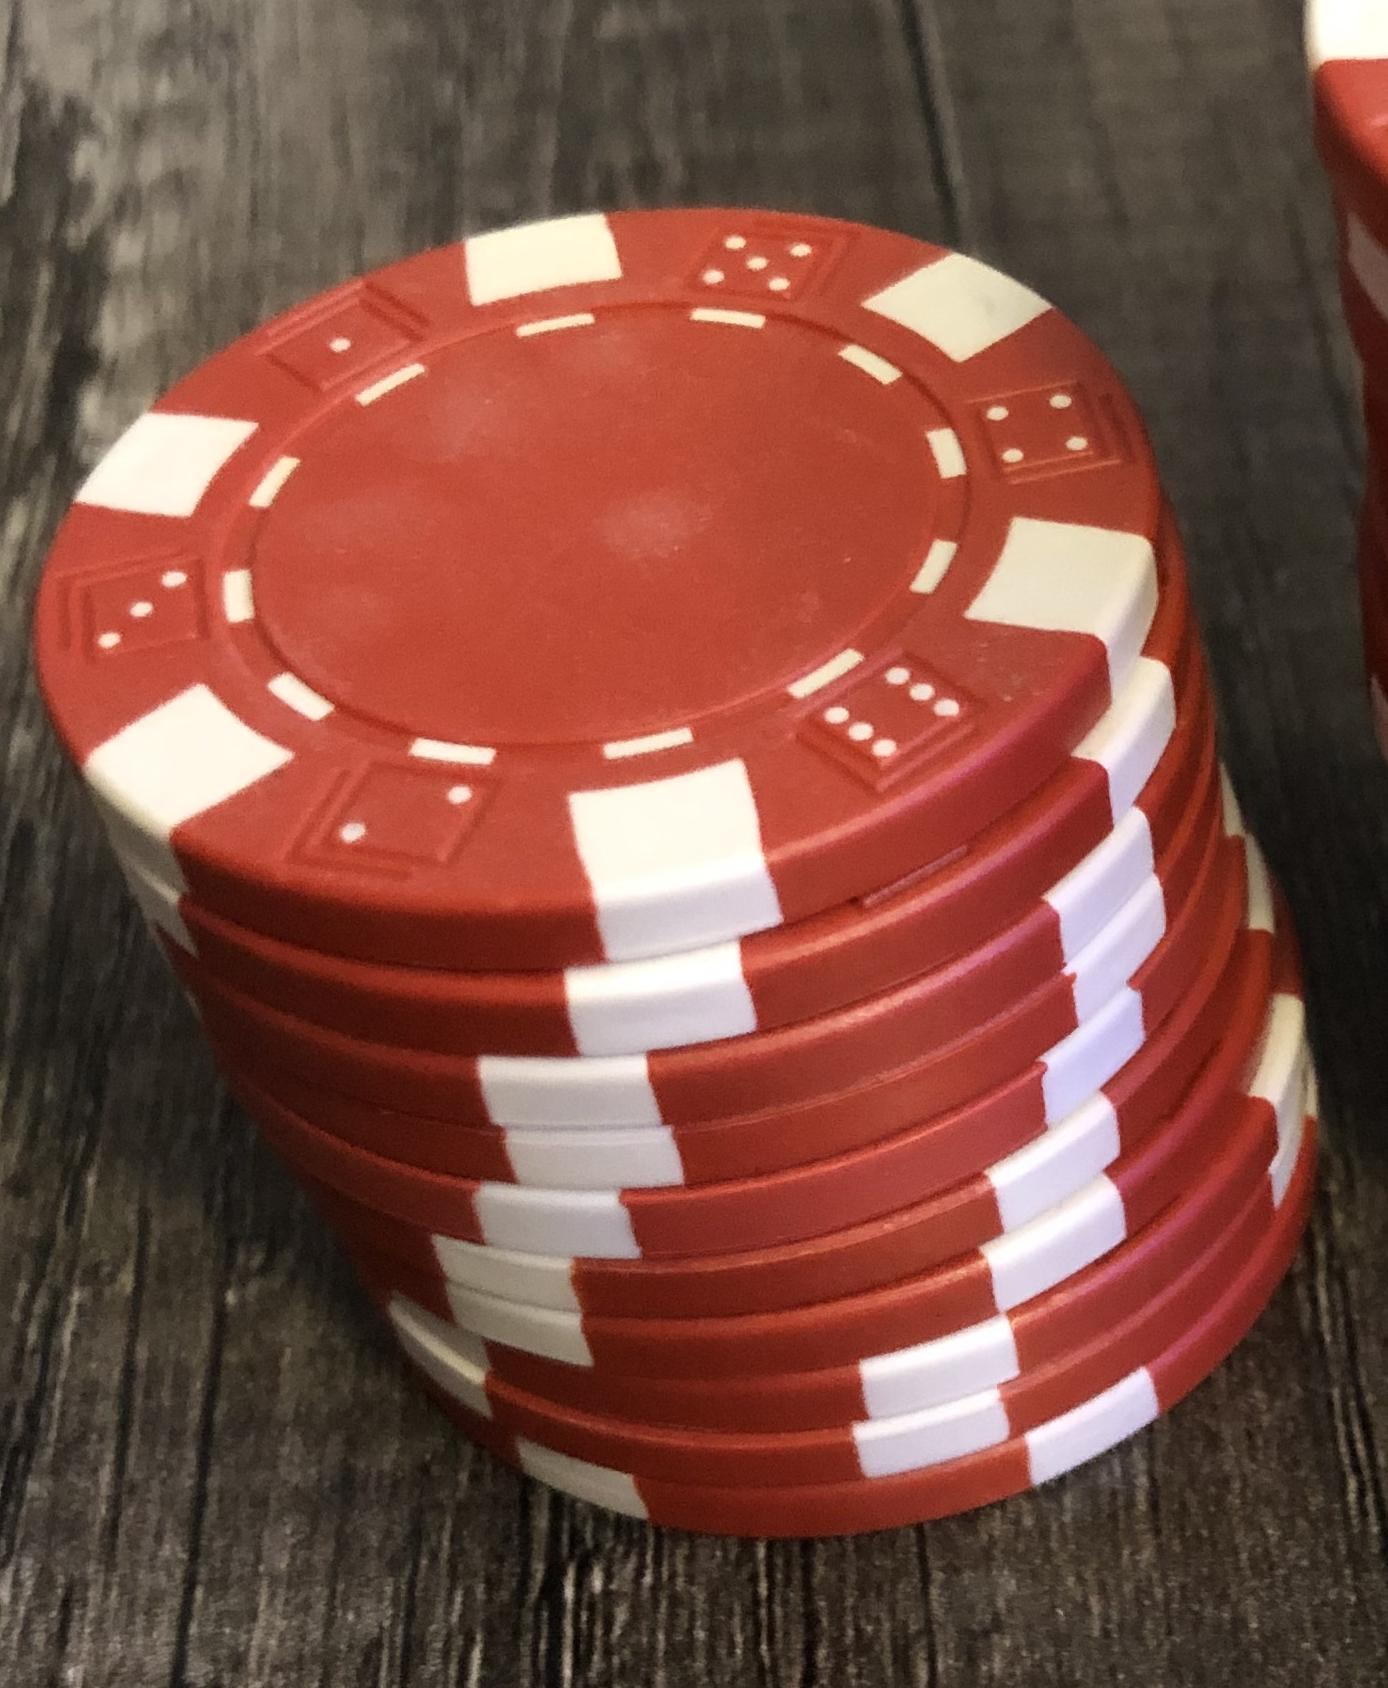Chip: (1, 1, 1388, 1688)
